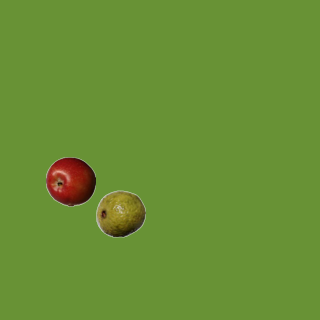Apple Braeburn: (45, 156, 95, 206)
Guava: (95, 188, 145, 238)
